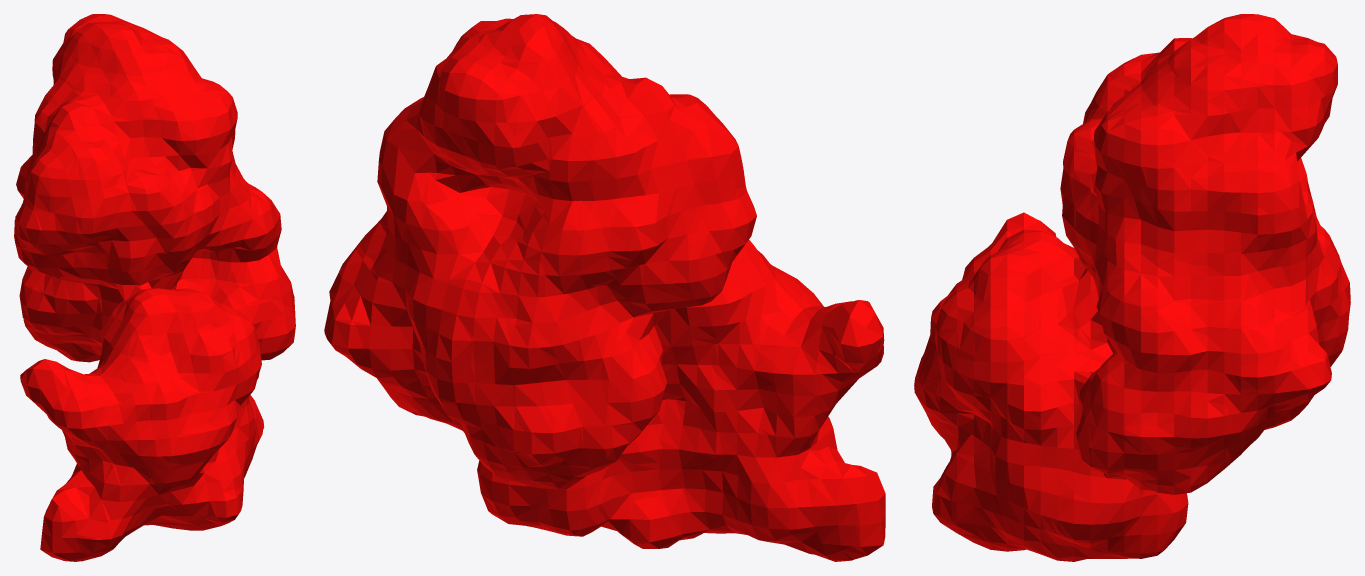
File: csdA_coarse.dae
The picture shows the model from 3 angles, left to right: view 1: azimuth 30°, elevation 25°; view 2: azimuth 150°, elevation 25°; view 3: azimuth 270°, elevation 25°; orthographic projection. The views are drawn at different scales.
Parts seen in each view (by area): view 1: csdA; view 2: csdA; view 3: csdA.
Part boxes in pixels (box(x1,y1,x2,y2)): csdA: box(14, 14, 295, 561); csdA: box(324, 14, 885, 561); csdA: box(914, 14, 1350, 561).
Size of the model in its own units: 85.87 by 115 by 83.81.
